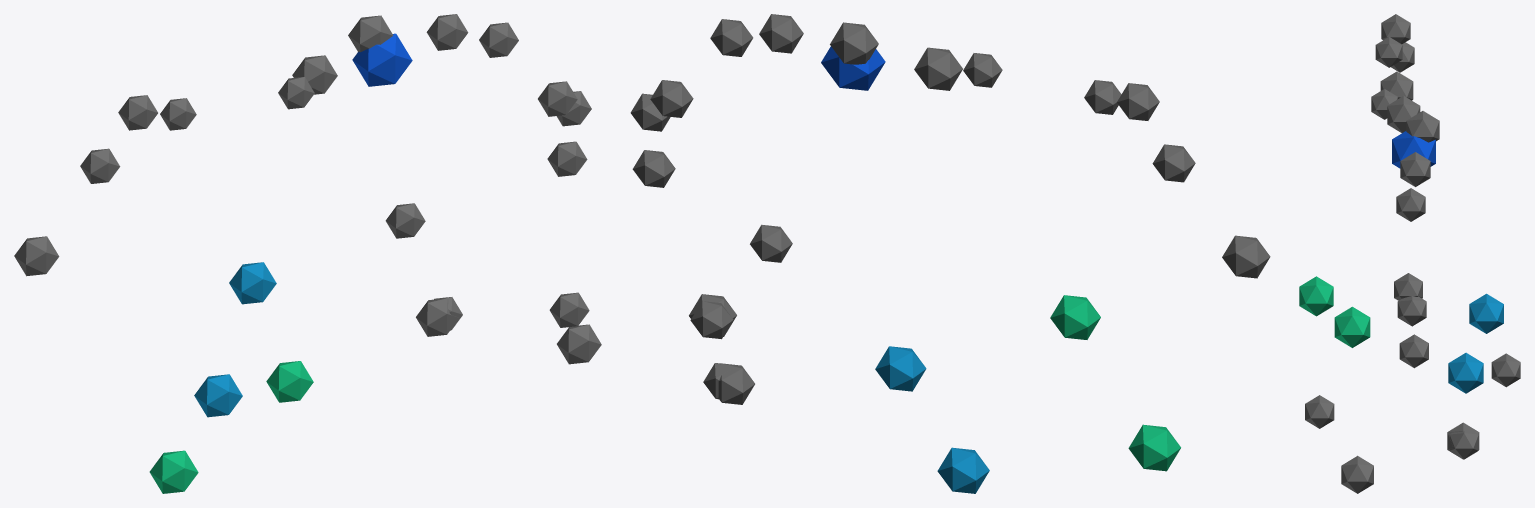
3 renders of one model, left to right at view 1: azimuth 30°, elevation 25°; view 2: azimuth 150°, elevation 25°; view 3: azimuth 270°, elevation 25°, orthographic. The views are drawn at different scales.
Parts seen in each view (by area): view 1: 01_05_04; view 2: 01_05_04; view 3: 01_05_04.
Part boxes in pixels (x1=…): 01_05_04: x1=14, y1=14, x2=601, y2=493; 01_05_04: x1=630, y1=14, x2=1270, y2=493; 01_05_04: x1=1299, y1=14, x2=1520, y2=493.
Size of the model in its own units: 0.6522 by 0.4166 by 0.2554.
